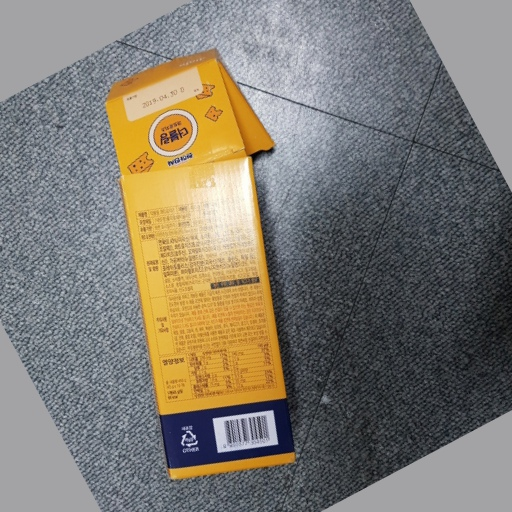Paper_0: (97, 44, 320, 490)
